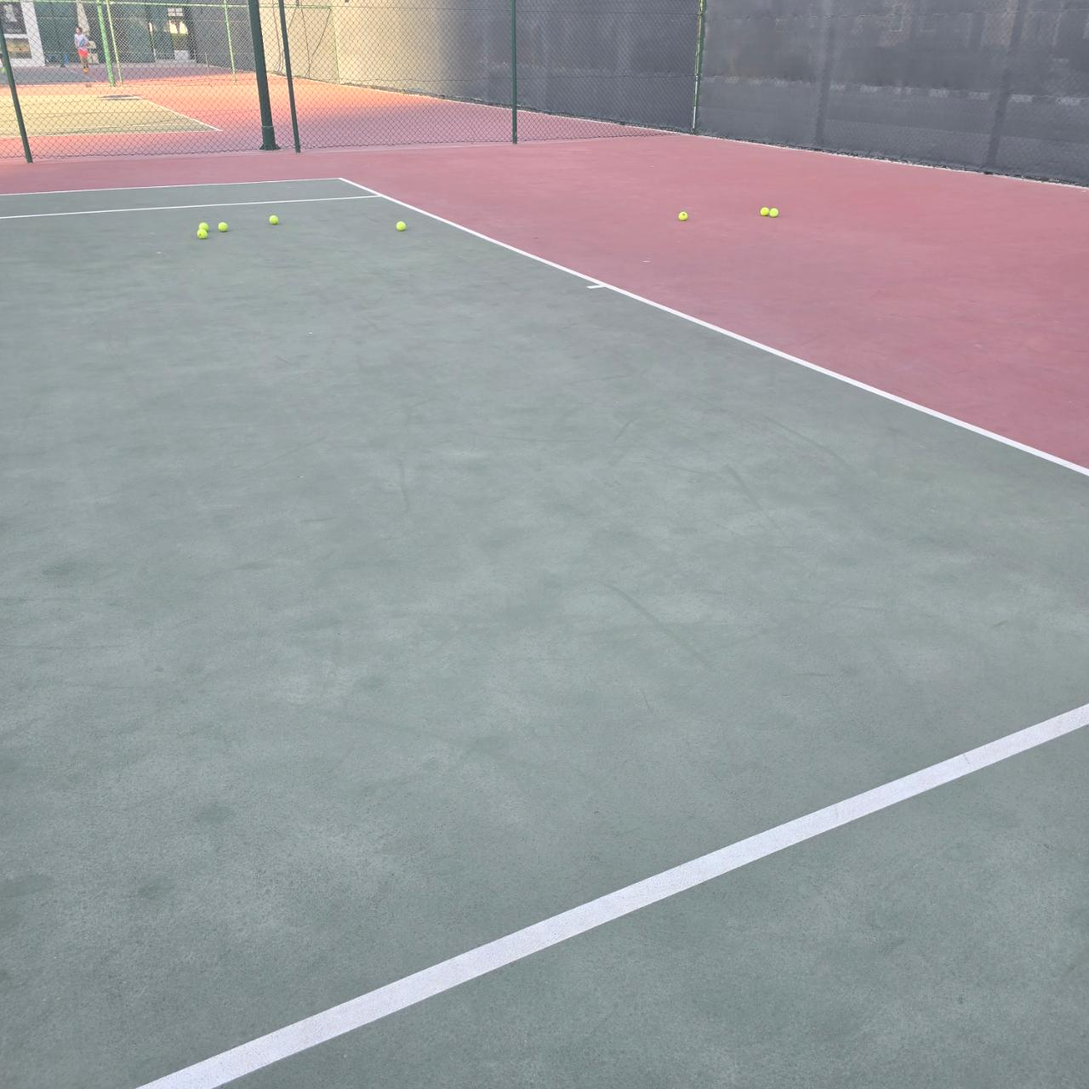tennis-ball: (677, 210, 689, 221), (395, 221, 407, 232), (268, 214, 279, 225), (198, 221, 209, 232), (197, 229, 208, 239), (218, 221, 228, 232), (769, 208, 779, 218), (760, 207, 769, 216)
